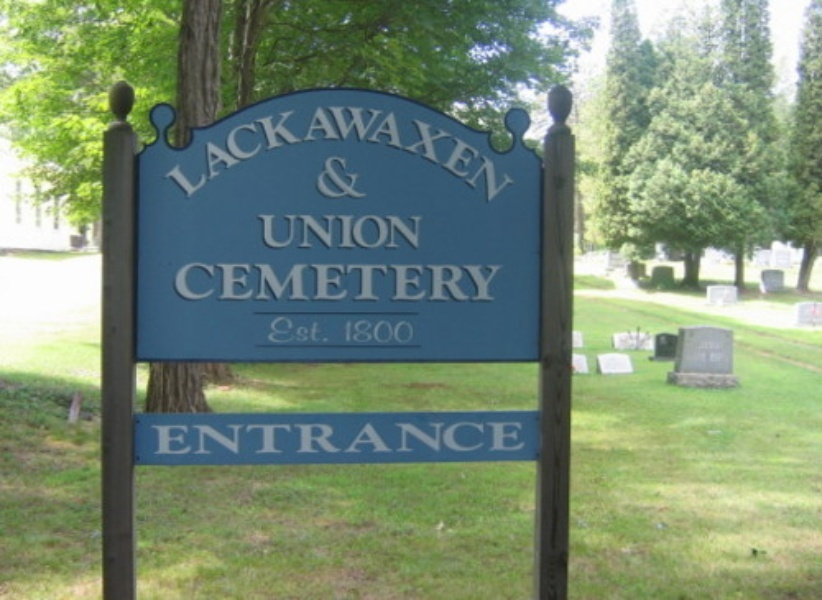text: (161, 96, 176, 204), (177, 96, 192, 204), (193, 96, 208, 204), (209, 96, 224, 204), (225, 96, 240, 204), (241, 96, 256, 204), (257, 96, 272, 204), (273, 96, 288, 204), (289, 96, 304, 204), (305, 96, 320, 204), (321, 96, 336, 204), (337, 96, 352, 204), (353, 96, 368, 204), (369, 96, 384, 204), (385, 96, 400, 204), (401, 96, 416, 204), (417, 96, 432, 204), (433, 96, 448, 204), (449, 96, 464, 204), (465, 96, 480, 204), (481, 96, 496, 204), (497, 96, 512, 204), (513, 96, 528, 204), (148, 96, 160, 204), (177, 260, 192, 305), (193, 260, 208, 305), (209, 260, 224, 305), (225, 260, 240, 305), (241, 260, 256, 305), (257, 260, 272, 305), (273, 260, 288, 305), (289, 260, 304, 305), (305, 260, 320, 305), (321, 260, 336, 305), (337, 260, 352, 305), (353, 260, 368, 305), (369, 260, 384, 305), (385, 260, 400, 305), (401, 260, 416, 305), (417, 260, 432, 305), (433, 260, 448, 305), (449, 260, 464, 305), (465, 260, 480, 305), (481, 260, 496, 305), (353, 157, 369, 199), (321, 157, 336, 199), (337, 157, 352, 199), (273, 214, 288, 252), (289, 214, 304, 252), (305, 214, 320, 252), (321, 214, 336, 252), (337, 214, 352, 252), (353, 214, 368, 252), (369, 214, 384, 252), (385, 214, 400, 252), (401, 214, 416, 252), (161, 420, 176, 456), (177, 420, 192, 456), (193, 420, 208, 456), (209, 420, 224, 456), (225, 420, 240, 456), (241, 420, 256, 456), (257, 420, 272, 456), (273, 420, 288, 456), (289, 420, 304, 456), (305, 420, 320, 456), (321, 420, 336, 456), (337, 420, 352, 456), (353, 420, 368, 456), (369, 420, 384, 456), (385, 420, 400, 456), (401, 420, 416, 456), (417, 420, 432, 456), (433, 420, 448, 456), (449, 420, 464, 456), (465, 420, 480, 456), (481, 420, 496, 456), (497, 420, 512, 456), (513, 420, 527, 456), (259, 214, 272, 252), (273, 316, 288, 346), (289, 316, 304, 346), (305, 316, 320, 346), (529, 96, 533, 204), (353, 319, 368, 346), (369, 319, 384, 346), (385, 319, 400, 346), (401, 319, 416, 346), (150, 420, 160, 456), (497, 260, 504, 305), (417, 214, 425, 252), (321, 316, 331, 346), (170, 260, 176, 305), (315, 157, 320, 199), (689, 341, 704, 352), (705, 341, 720, 352), (346, 319, 352, 346), (709, 351, 720, 364), (268, 316, 272, 346), (721, 341, 727, 352), (721, 351, 726, 364), (684, 341, 688, 352)
